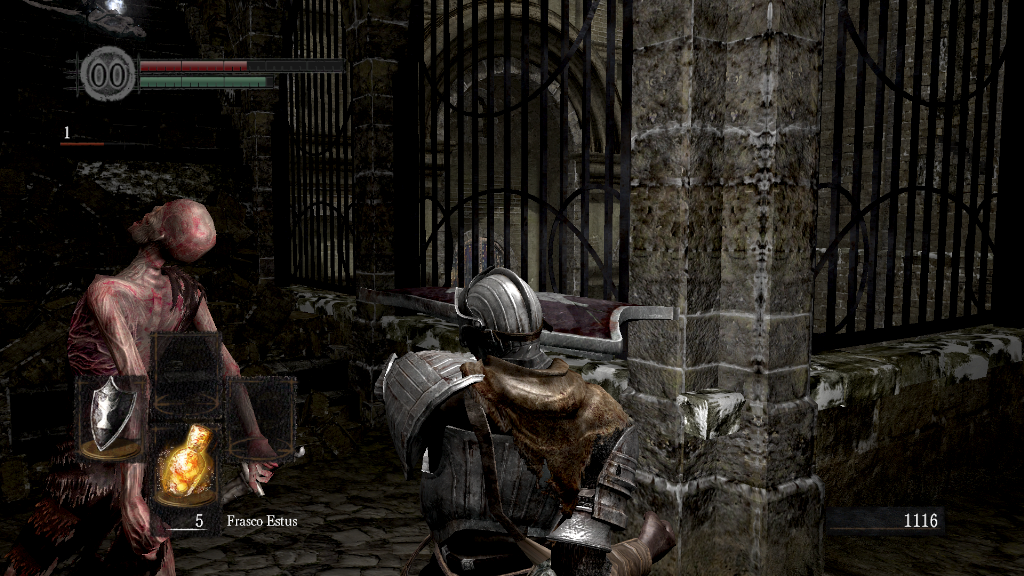health: (138, 58, 343, 71)
hollow: (1, 197, 283, 576)
humanity: (80, 45, 136, 102)
player: (372, 267, 680, 576)
souls: (825, 506, 945, 536)
stamina: (138, 74, 274, 88)
